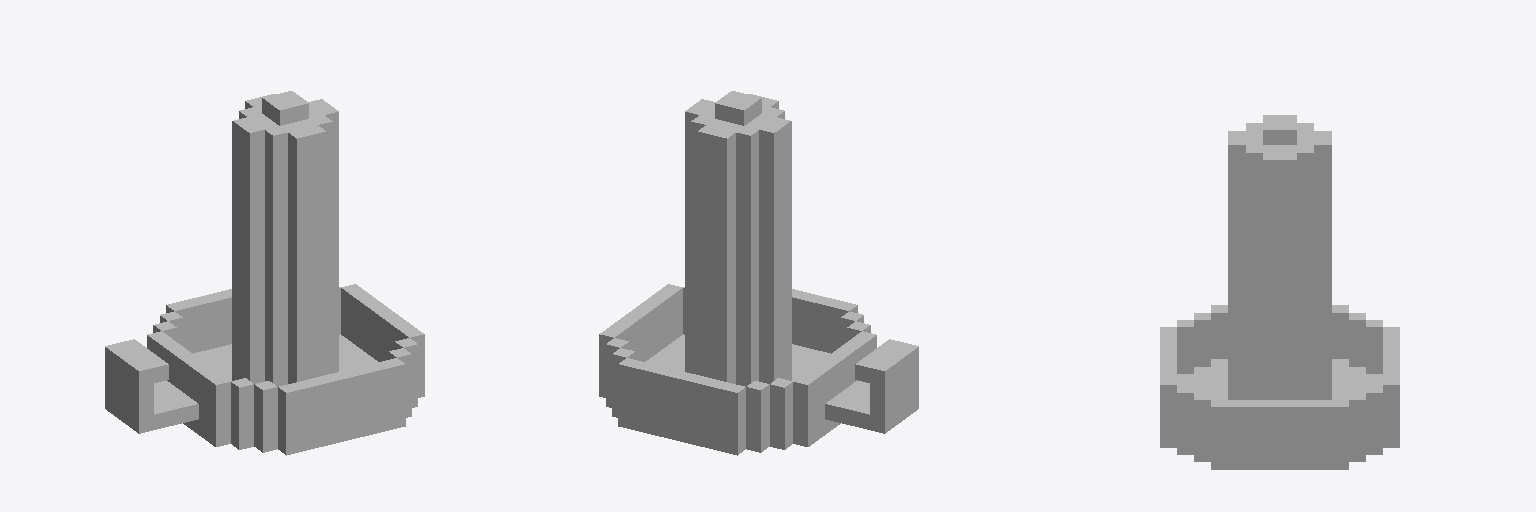
File: Candle.obj
The picture shows the model from 3 angles: view 1: azimuth 30°, elevation 25°; view 2: azimuth 150°, elevation 25°; view 3: azimuth 270°, elevation 25°; orthographic projection.
Parts seen in each view (by area): view 1: object 1; view 2: object 1; view 3: object 1.
Boxes of the visible parts, x1,y1,x2,y2 form: object 1: [105, 91, 424, 455]; object 1: [599, 91, 918, 455]; object 1: [1160, 115, 1399, 469].
Size of the model in its own units: 1.8 by 1.9 by 1.4.